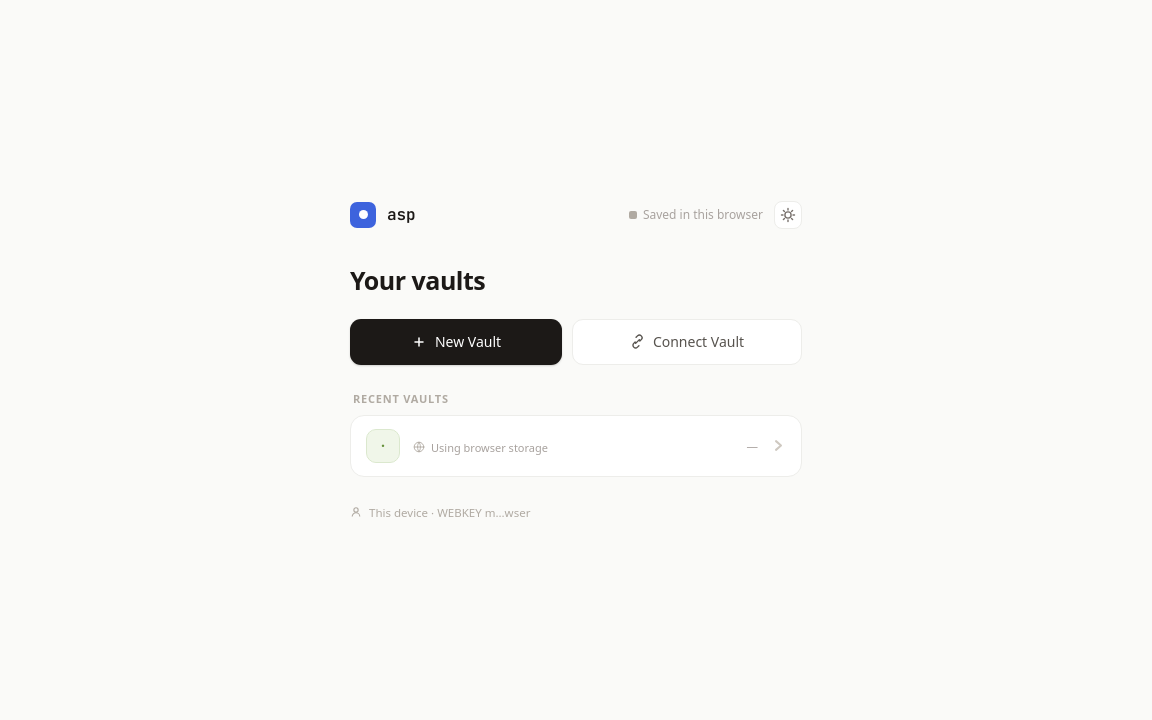
it: App on the web (OPFS, no Tauri) › creates a browser vault with no folder chooser
The image size is (1152, 720).
Click the button "New Vault" at (456, 342), box [350,318,562,364]
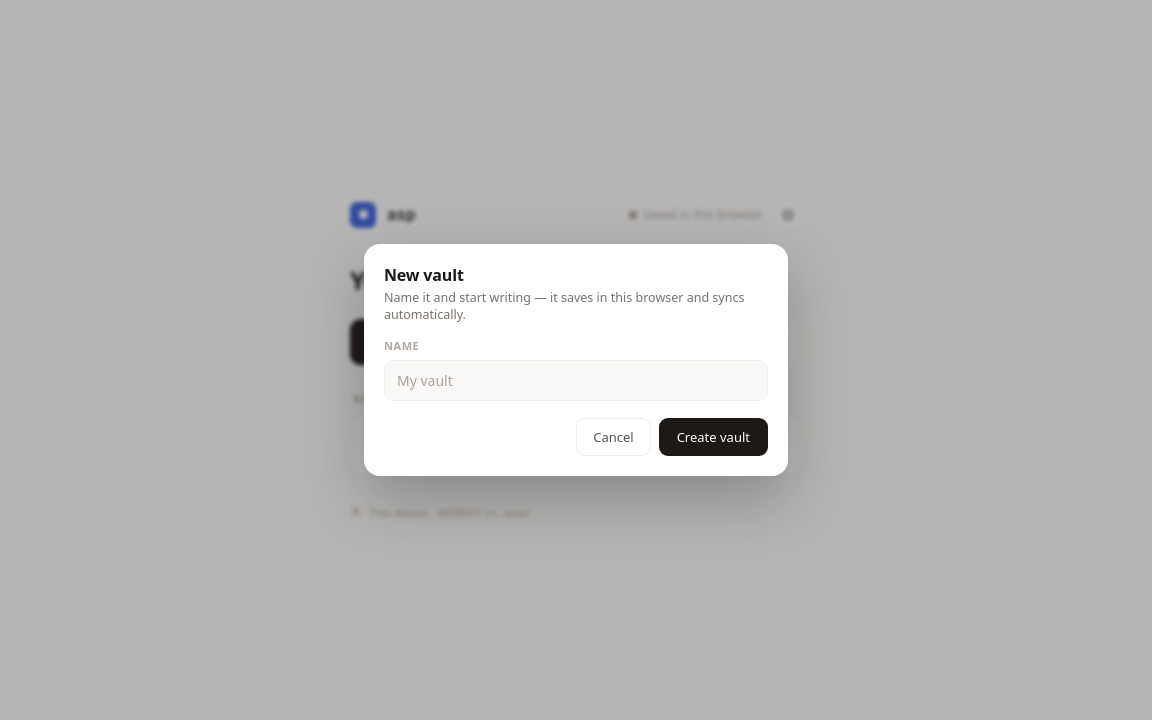
Type "Browser Notes" into the field with placeholder "My vault" at (576, 380), box [384,360,768,401]
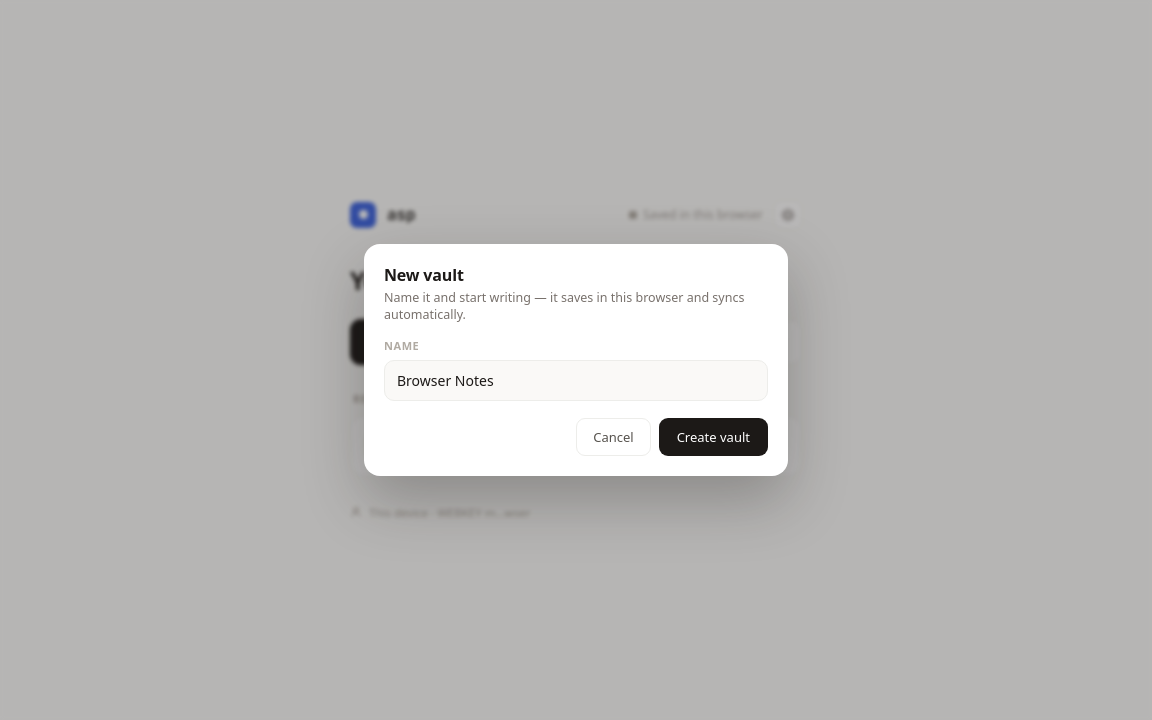
Click the button "Create vault" at (713, 437), box [659,418,768,456]
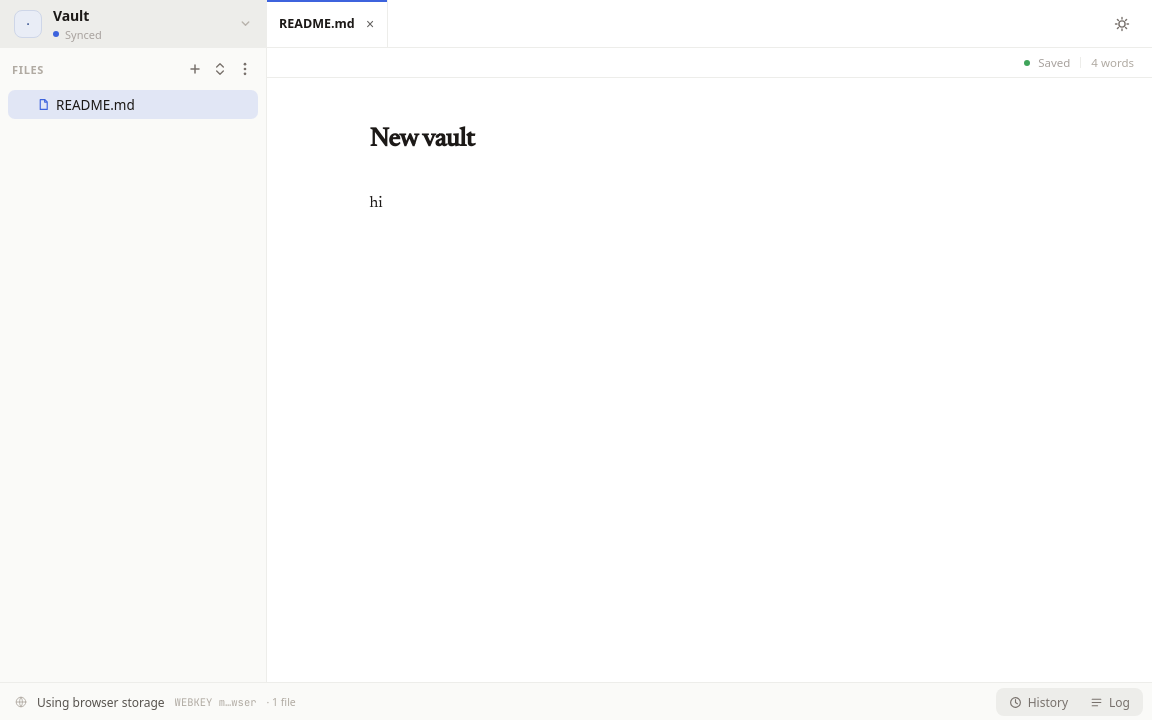
Check: the text "Files" is shown, box [12,62,44,76]
